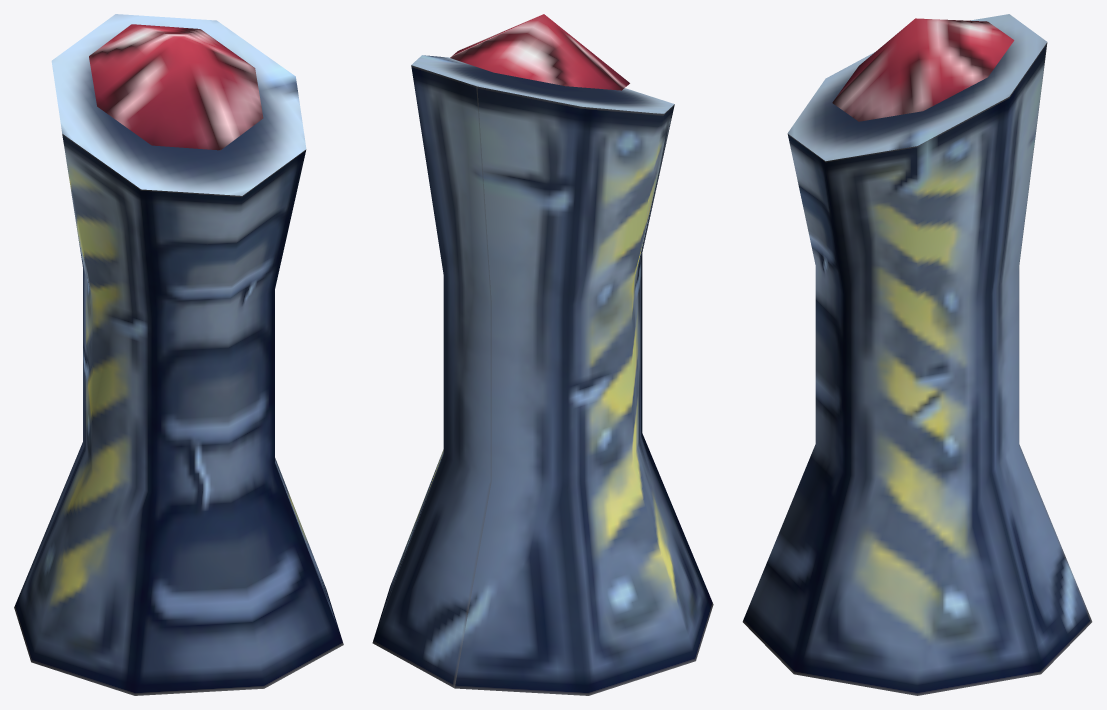
File: RedButton.FBX
3 views of the same model, side by side, from view 1: azimuth 30°, elevation 25°; view 2: azimuth 150°, elevation 25°; view 3: azimuth 270°, elevation 25° (orthographic). The views are drawn at different scales.
Visible parts, largest first — view 1: redButton; view 2: redButton; view 3: redButton.
Part boxes in pixels (x1,y1,x2,y2): redButton: (14,14,343,695); redButton: (372,14,713,695); redButton: (742,14,1092,695).
Bounding box in the file's own units: 0.0187 × 0.0187 × 0.0357.
